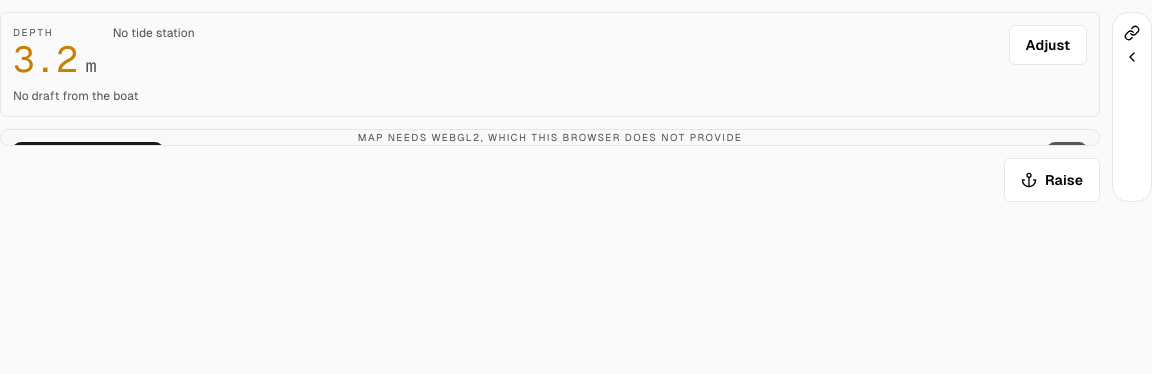
Scenario: AnchorWatchDrawer Adjust mode (ADR 0136) — entry gating › opens the radius toolbar and Escape/Save once anchored and the entry point is tapped
Click the button "Adjust".
click(1048, 45)  # box [1009, 25, 1087, 65]
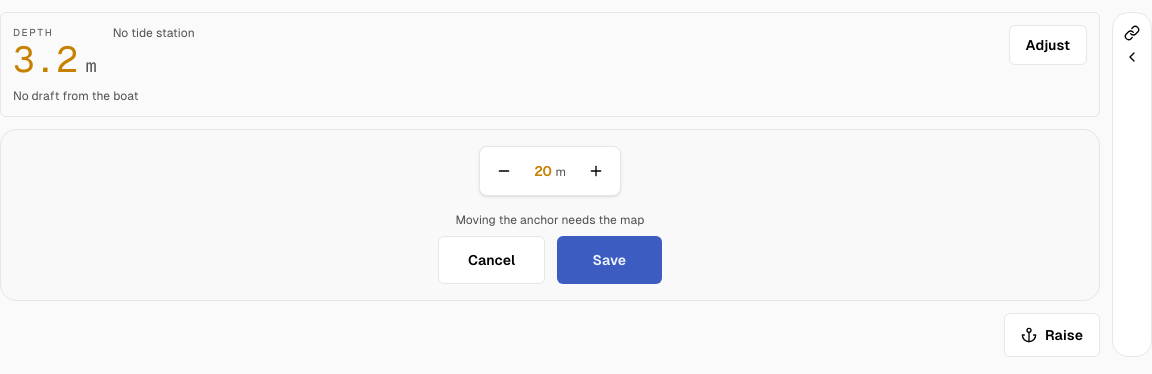
Expected: the element with test id "anchor-adjust-radius-toolbar" is shown, [479, 146, 621, 196]
Expected: the element with test id "anchor-adjust-actions" is shown, [438, 212, 662, 284]
